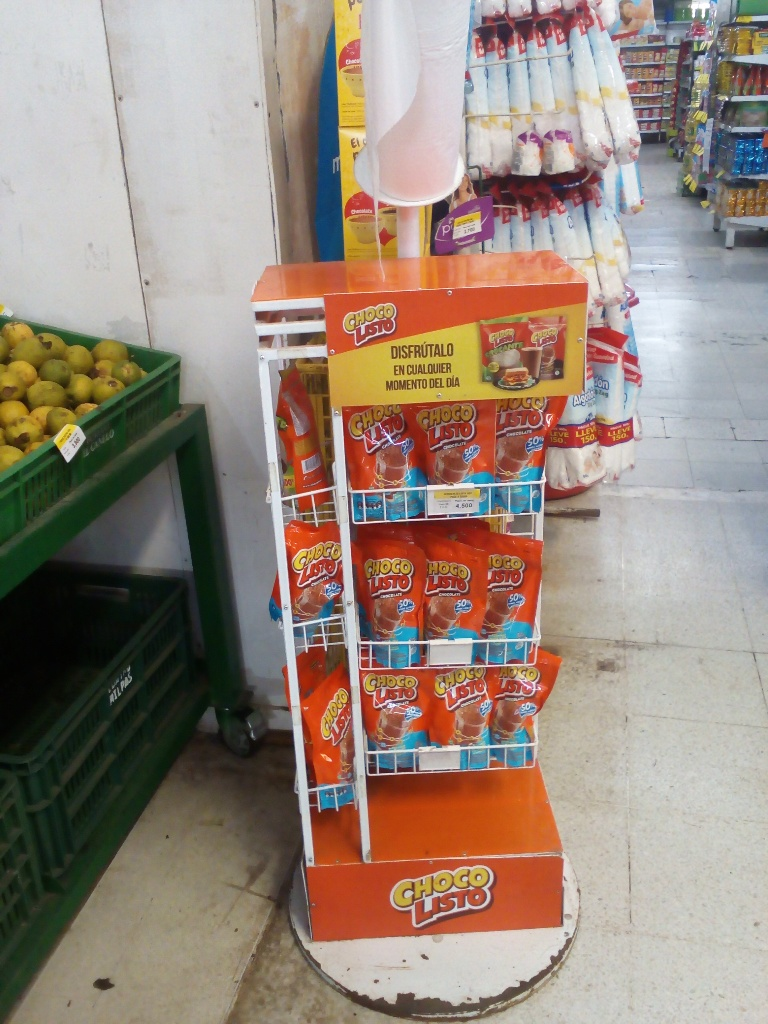COL0170104DYP20000: (332, 393, 426, 519)
